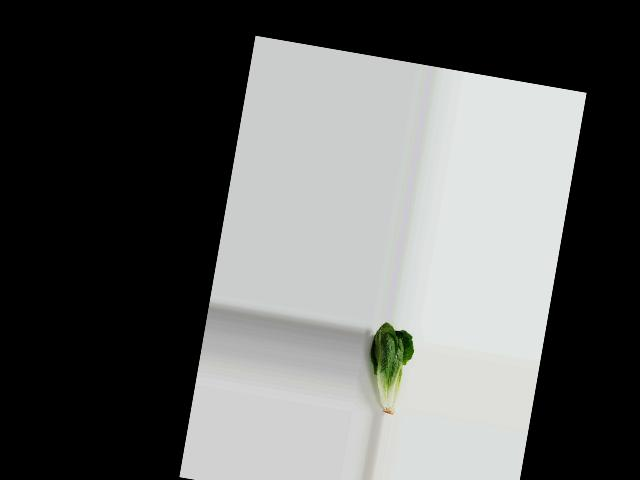lettuce: (357, 319, 419, 420)
